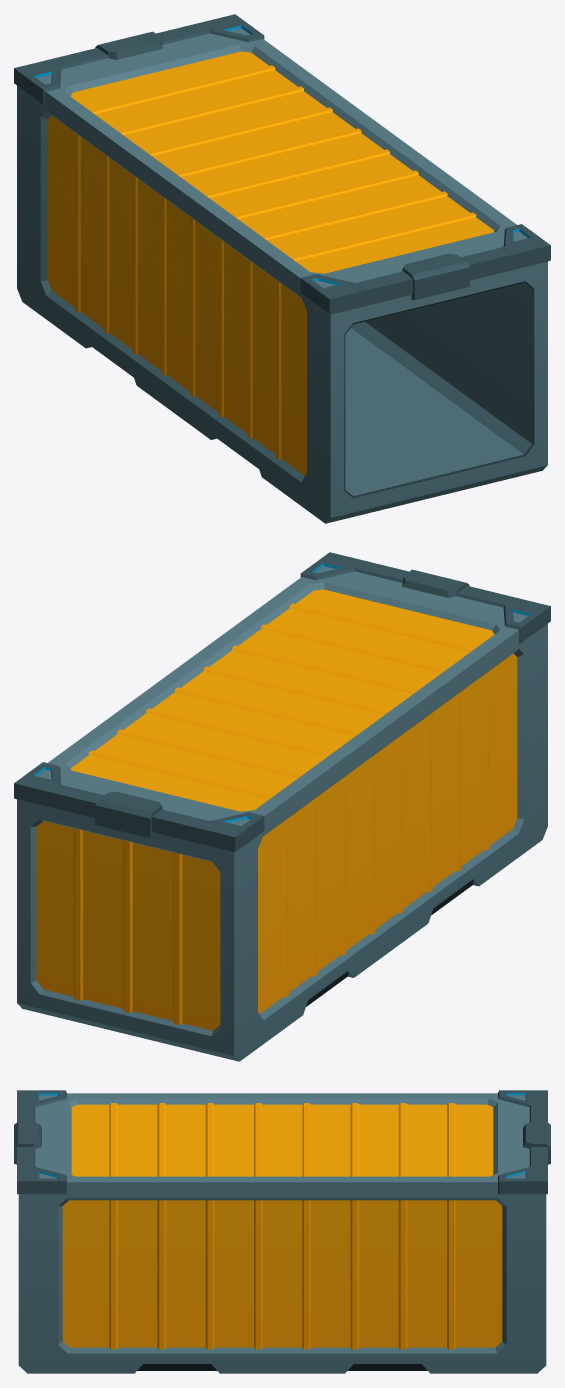
Rendered from Container_type_A_006.fbx.
The picture shows the model from 3 angles, top to bottom: view 1: azimuth 30°, elevation 25°; view 2: azimuth 150°, elevation 25°; view 3: azimuth 270°, elevation 25°; orthographic projection. The views are drawn at different scales.
Visible parts, largest first — view 1: Container_type_A_006; view 2: Container_type_A_006; view 3: Container_type_A_006.
Boxes of the visible parts, <box> form: Container_type_A_006: <box>14,14,550,523</box>; Container_type_A_006: <box>14,552,550,1061</box>; Container_type_A_006: <box>14,1090,550,1373</box>.
Bounding box in the file's own units: 244 × 611 × 246.
